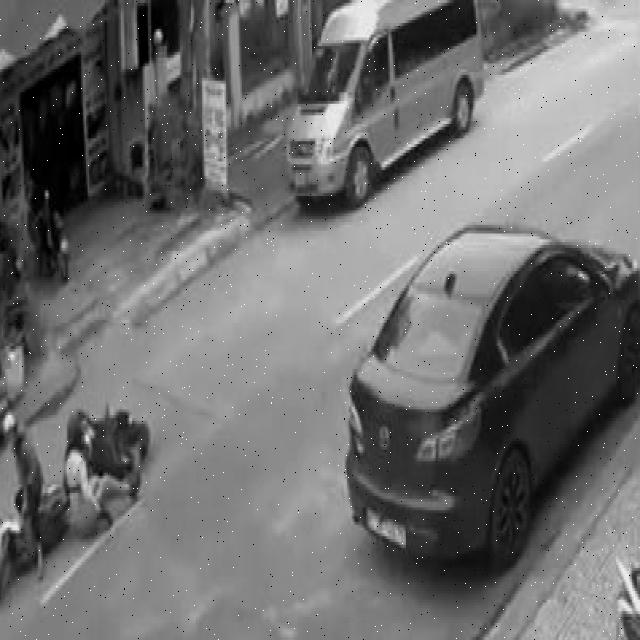accident: (0, 372, 154, 620)
